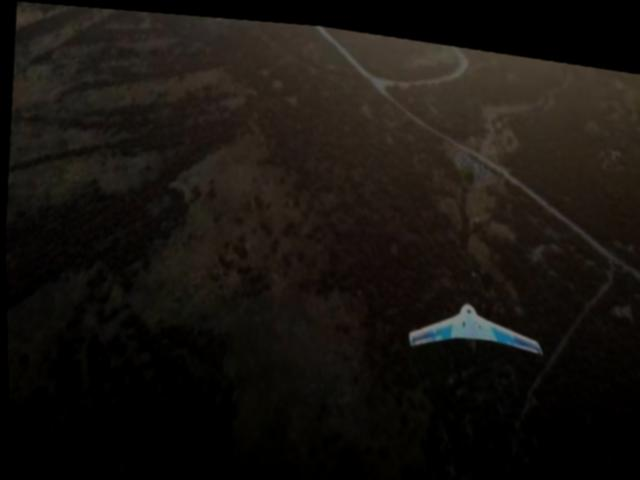iha: (398, 280, 545, 357)
